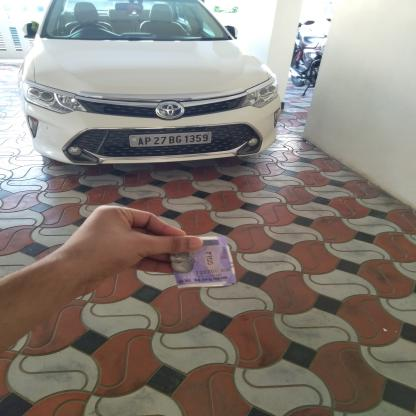New100Front: (171, 240, 237, 288)
